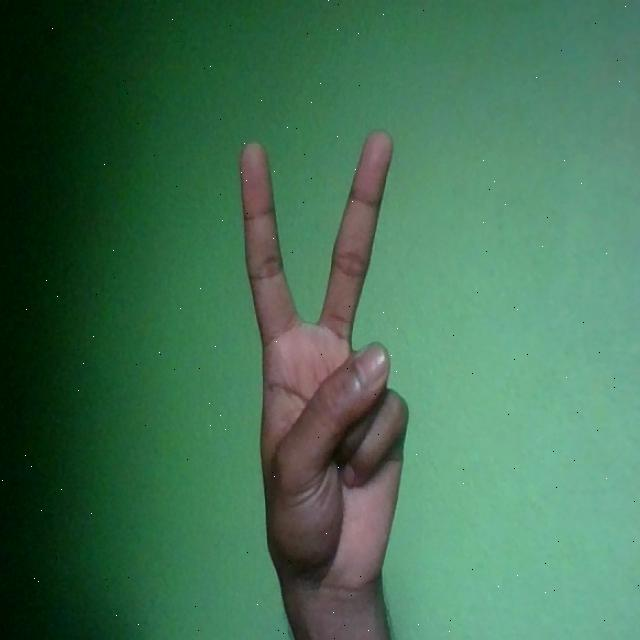Fist: (239, 127, 410, 602)
